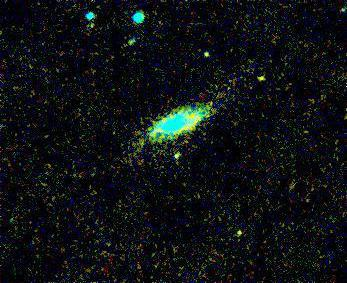star: (225, 219, 255, 249)
